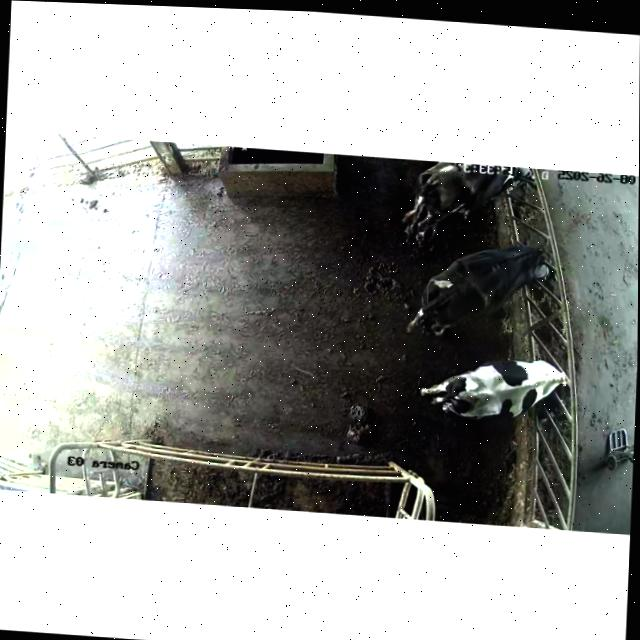eat: (490, 234, 590, 293), (504, 346, 595, 407), (476, 163, 562, 195)
